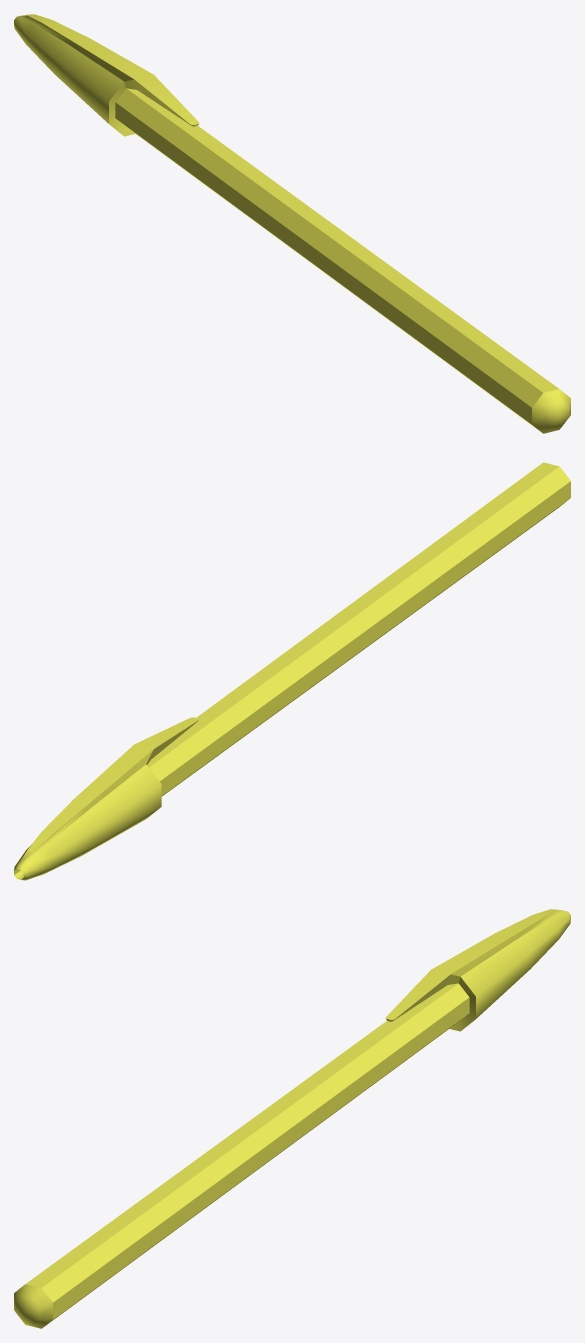
Rendered from Lapicera 1.fbx.
3 views of the same model, one above another, from view 1: azimuth 30°, elevation 25°; view 2: azimuth 150°, elevation 25°; view 3: azimuth 330°, elevation 25° (orthographic).
Parts seen in each view (by area): view 1: Lapicera_1; view 2: Lapicera_1; view 3: Lapicera_1.
Part boxes in pixels (x1,y1,x2,y2): Lapicera_1: (14, 14, 570, 433); Lapicera_1: (14, 462, 570, 880); Lapicera_1: (14, 909, 570, 1328).
Bounding box in the file's own units: 0.00809 × 0.00933 × 0.1442.
